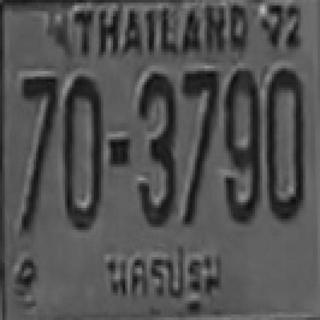N00: (224, 68, 257, 161)
N07: (19, 74, 58, 156), (182, 68, 218, 153)
N09: (221, 102, 260, 220)
P28: (100, 239, 234, 314)
